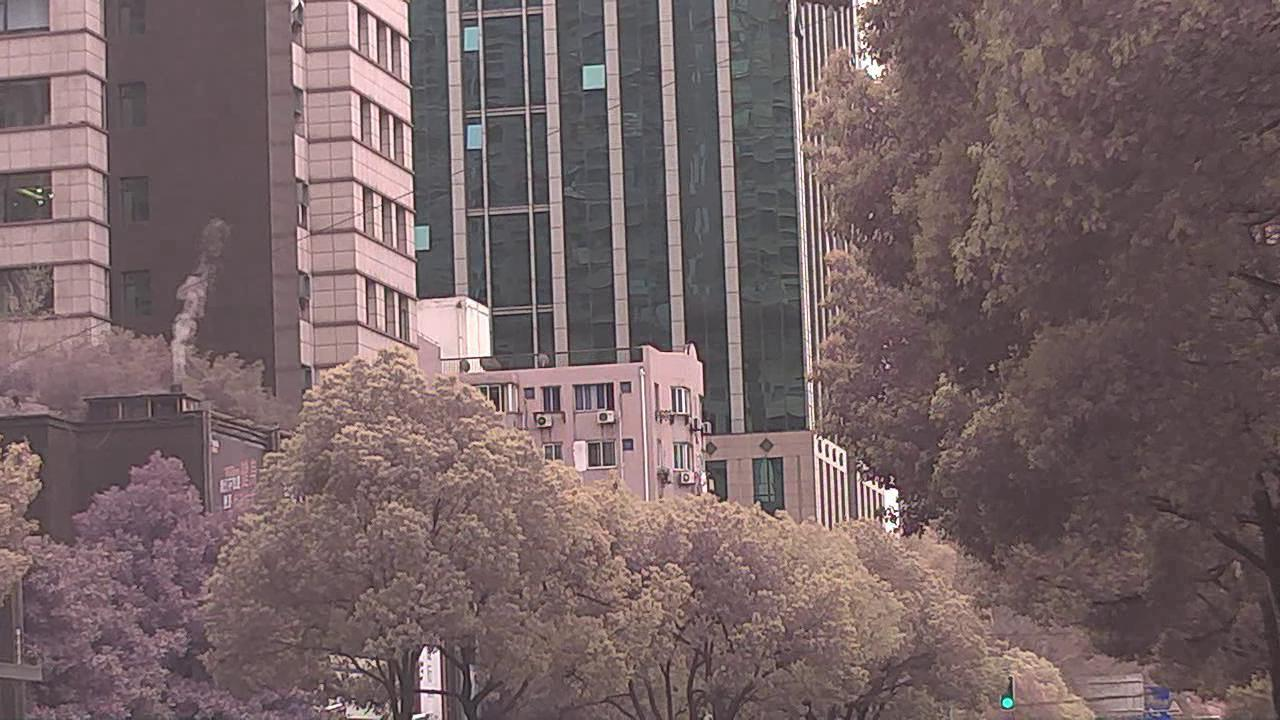traffic_light: (1001, 679, 1013, 709)
